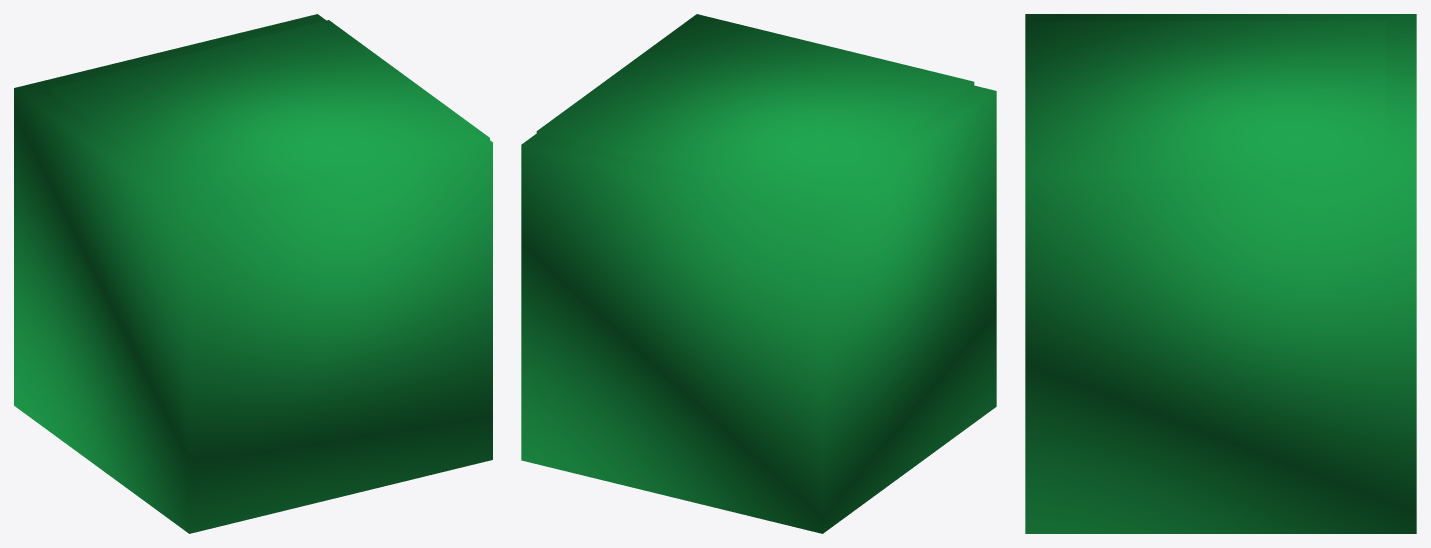
The model's file is ps2_jrpg_longbow_rebel_scout.obj.
3 renders of one model, left to right at view 1: azimuth 30°, elevation 25°; view 2: azimuth 150°, elevation 25°; view 3: azimuth 270°, elevation 25°, orthographic. The views are drawn at different scales.
Size of the model in its own units: 1 by 1.01 by 1.
